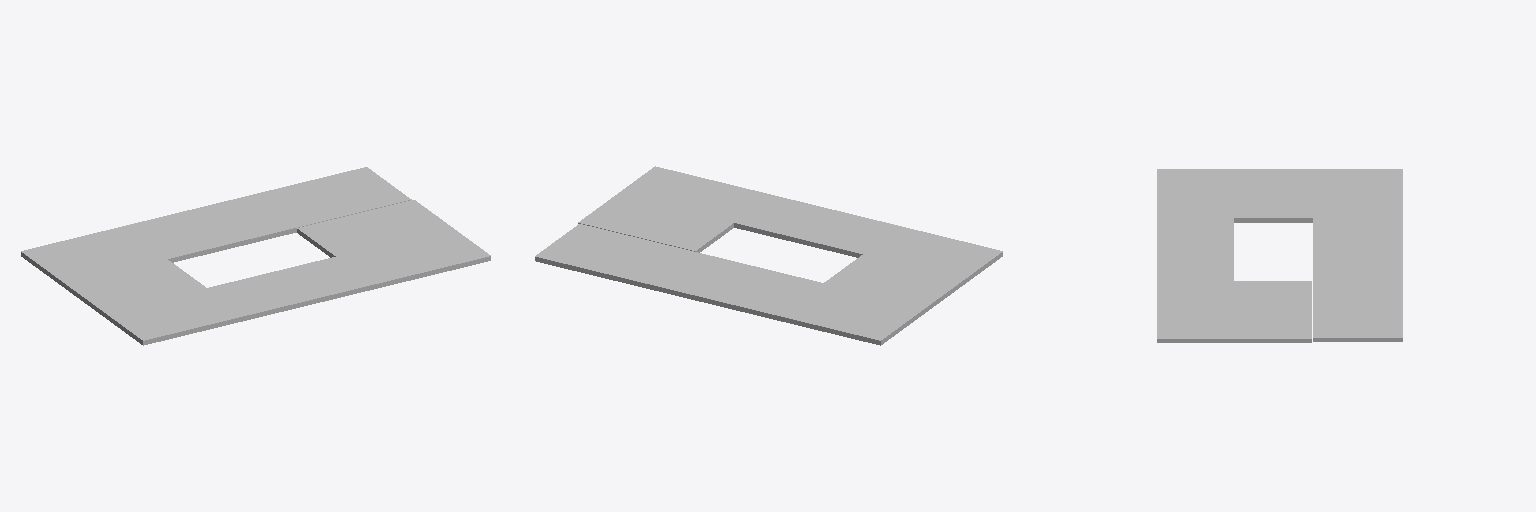
The model's file is buildings009 (321).obj.
3 renders of one model, left to right at view 1: azimuth 30°, elevation 25°; view 2: azimuth 150°, elevation 25°; view 3: azimuth 270°, elevation 25°, orthographic.
Visible parts, largest first — view 1: buildings009 (321); view 2: buildings009 (321); view 3: buildings009 (321).
Part boxes in pixels (x1,y1,x2,y2): buildings009 (321): (21,167,490,345); buildings009 (321): (535,166,1002,345); buildings009 (321): (1157,169,1402,342).
Size of the model in its own units: 22.41 by 0.2955 by 13.66.